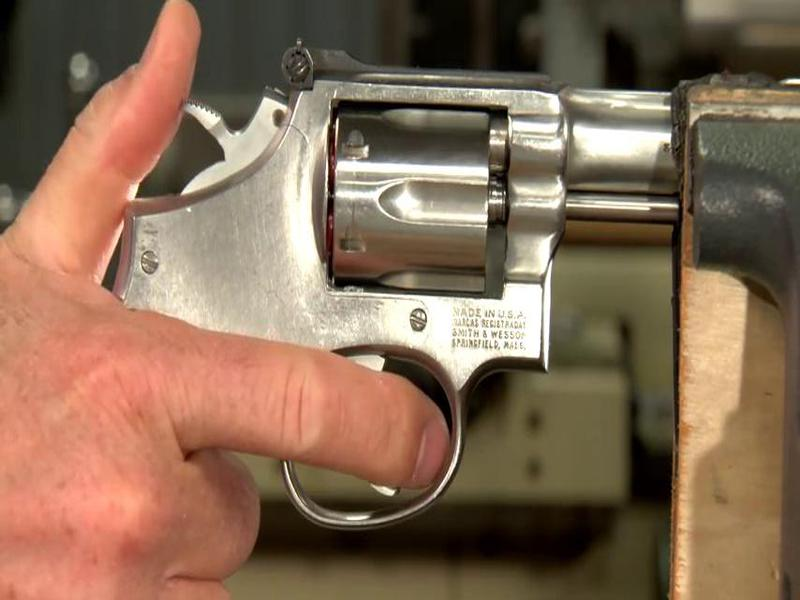Revolver: (120, 18, 676, 505)
